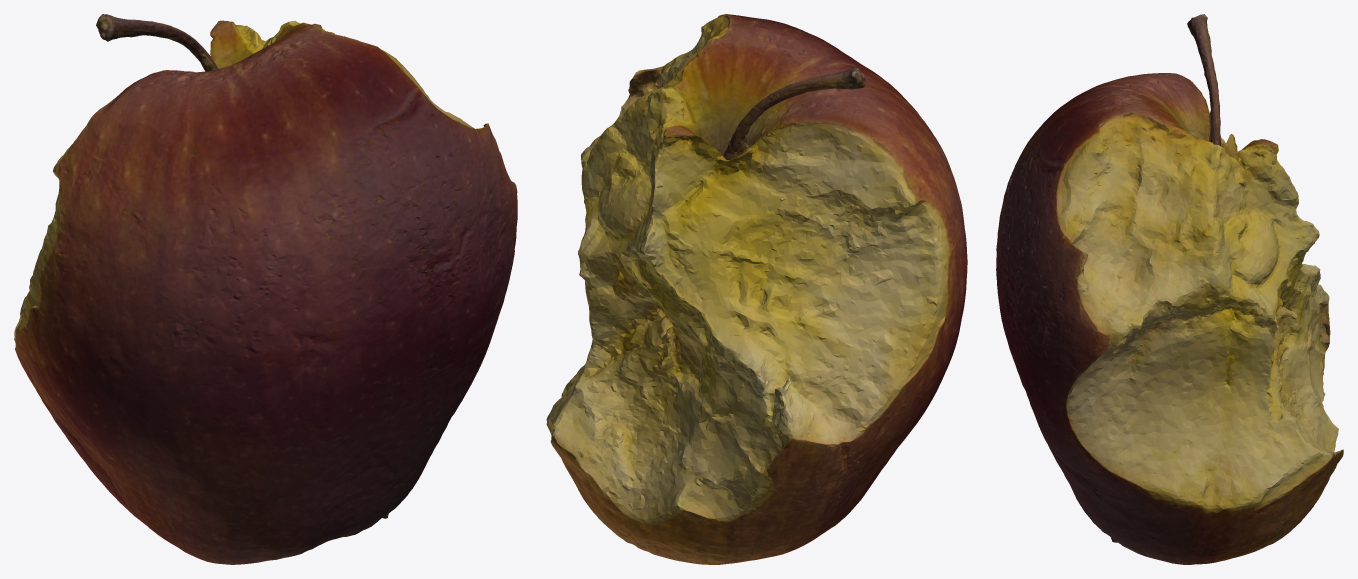
3 views of the same model, side by side, from view 1: azimuth 30°, elevation 25°; view 2: azimuth 150°, elevation 25°; view 3: azimuth 270°, elevation 25° (orthographic). The views are drawn at different scales.
Parts seen in each view (by area): view 1: Apple_05_Apple_5_u1_v1_0; view 2: Apple_05_Apple_5_u1_v1_0; view 3: Apple_05_Apple_5_u1_v1_0.
Boxes of the visible parts, <box> form: Apple_05_Apple_5_u1_v1_0: <box>14,14,517,564</box>; Apple_05_Apple_5_u1_v1_0: <box>546,14,967,564</box>; Apple_05_Apple_5_u1_v1_0: <box>996,14,1343,564</box>.
Bounding box in the file's own units: 24.5 × 29.06 × 20.32.
1 material, 1 textured.
